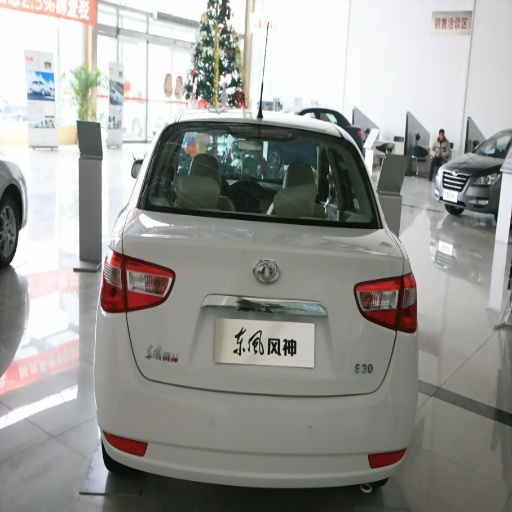back_bumper: (81, 309, 433, 492)
tailgate: (246, 220, 400, 389)
